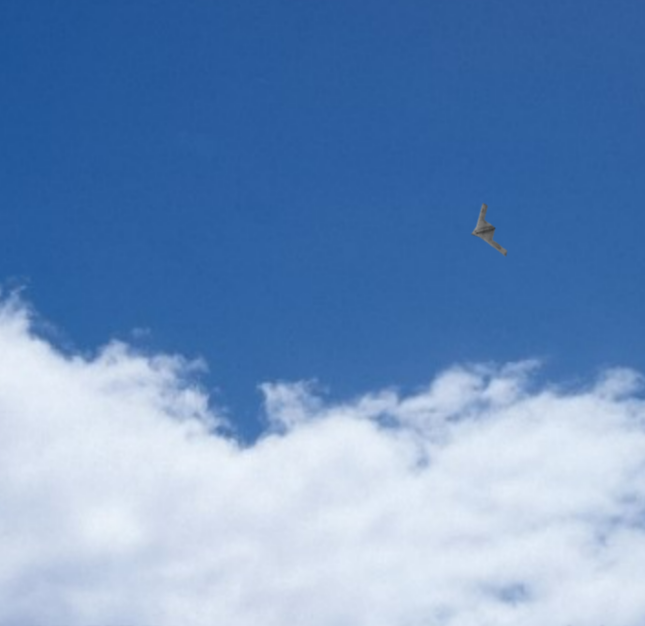military drone: (471, 202, 507, 258)
